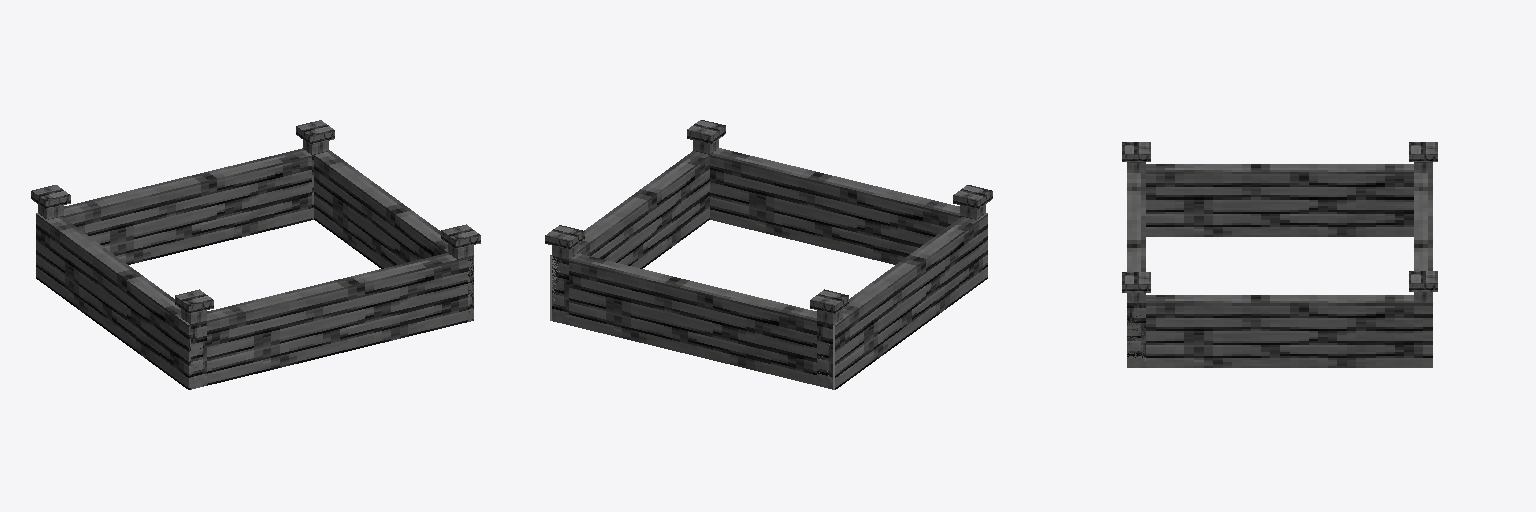
The picture shows the model from 3 angles: view 1: azimuth 30°, elevation 25°; view 2: azimuth 150°, elevation 25°; view 3: azimuth 270°, elevation 25°; orthographic projection.
Parts seen in each view (by area): view 1: cuboid; view 2: cuboid; view 3: cuboid.
Part boxes in pixels (bbox=[...]): cuboid: bbox=[31, 120, 480, 389]; cuboid: bbox=[545, 120, 992, 389]; cuboid: bbox=[1122, 142, 1437, 367].
Bounding box in the file's own units: 8.81 × 2.5 × 8.25.
2 materials, 1 textured.